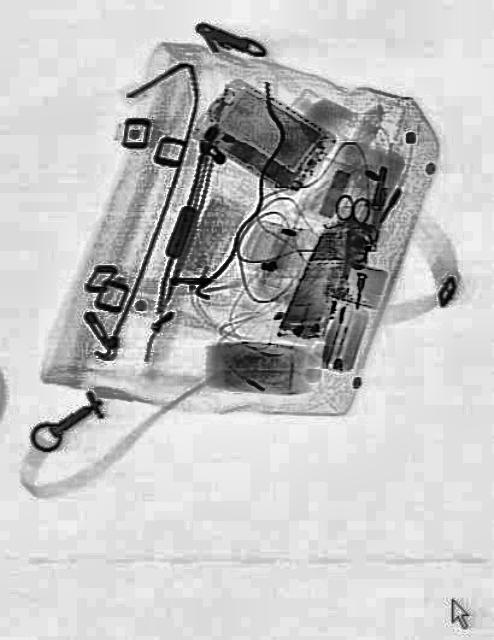Scissors: (326, 192, 370, 278)
